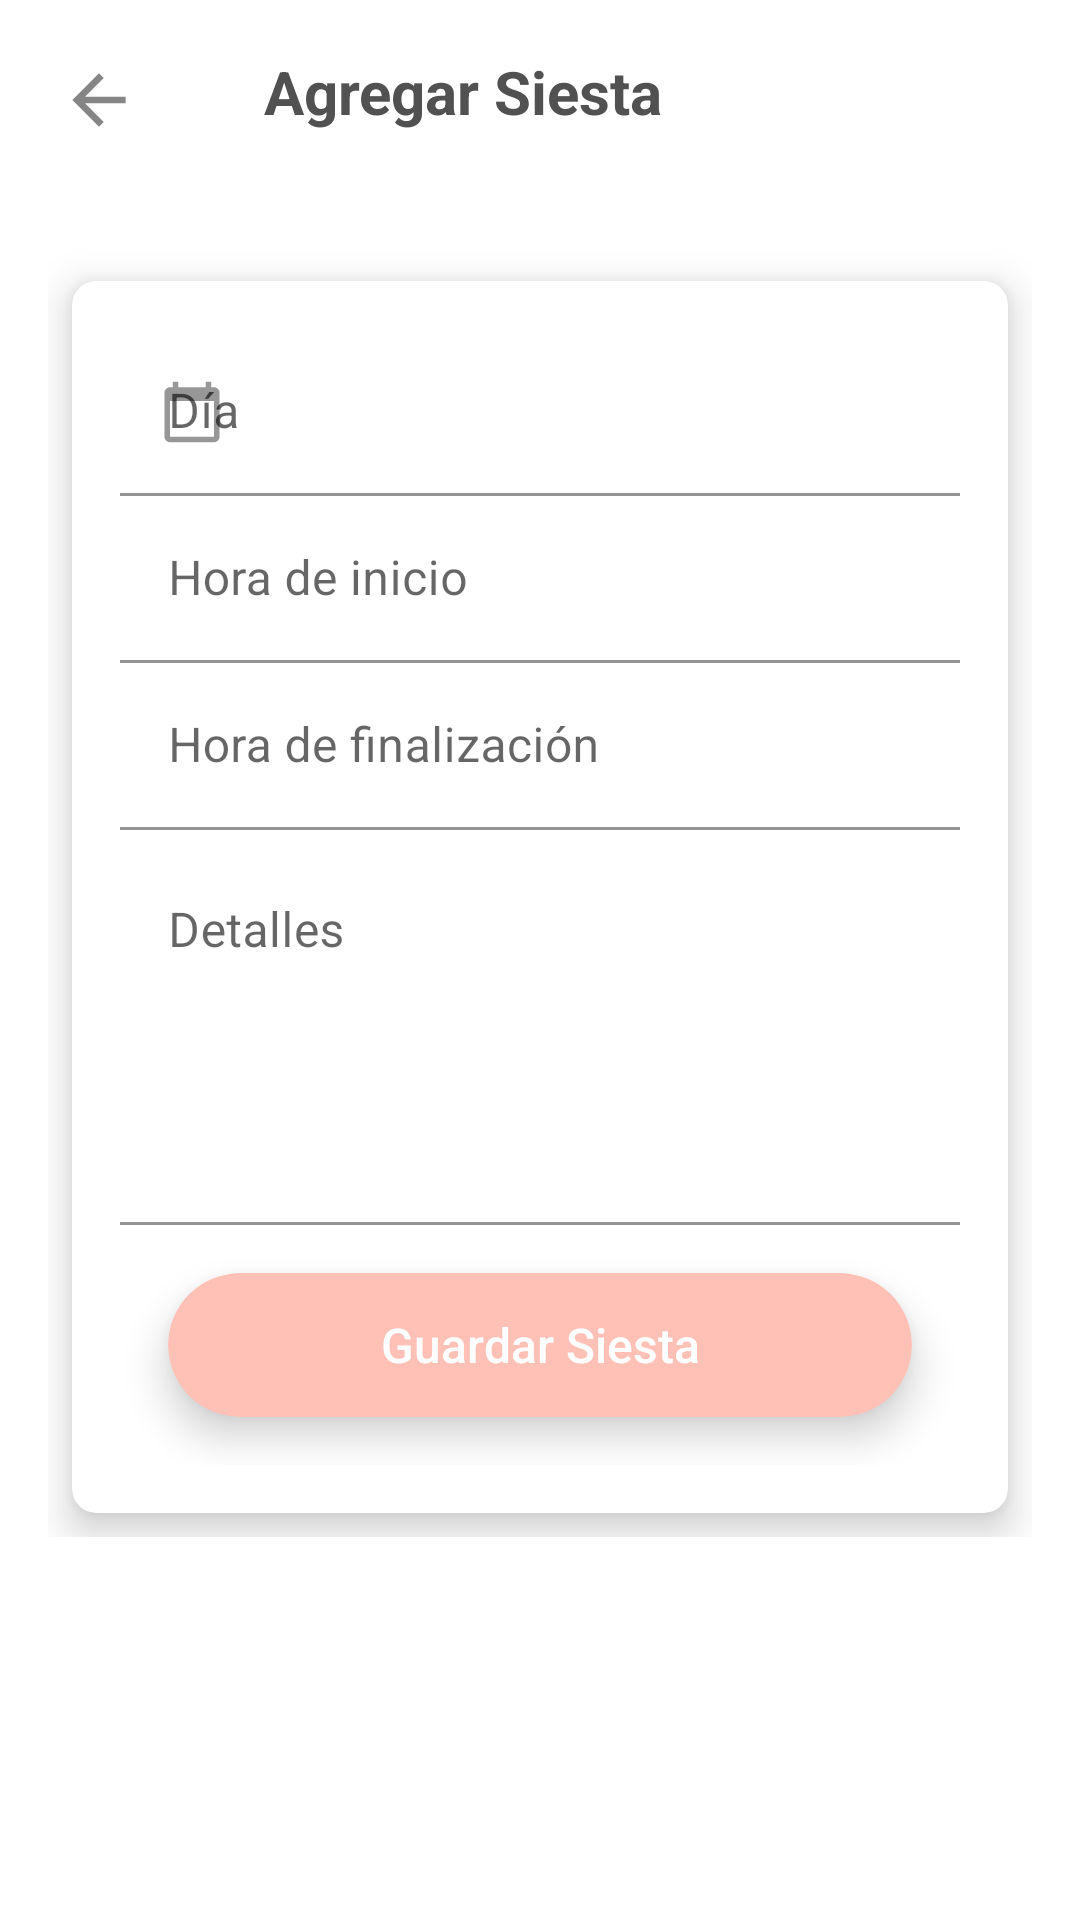

Where to tap for icons on this 1080w x 1920h app screen, as (x=x, y=y):
back: (x=99, y=100)
